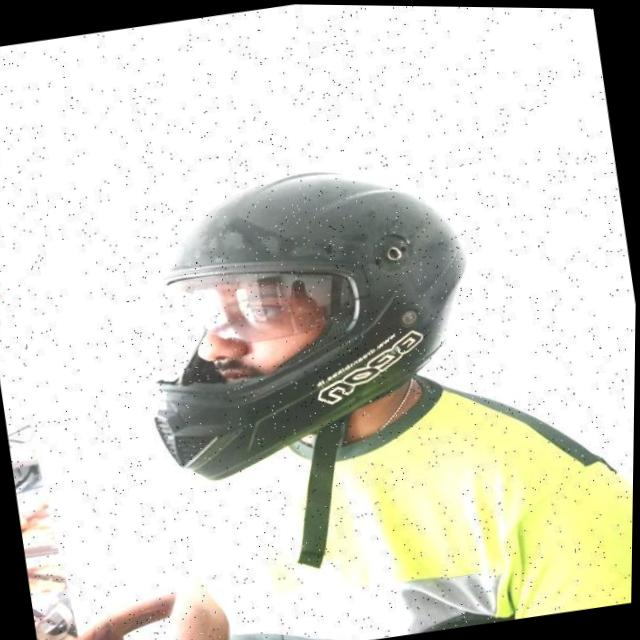helmet: (120, 146, 512, 591)
